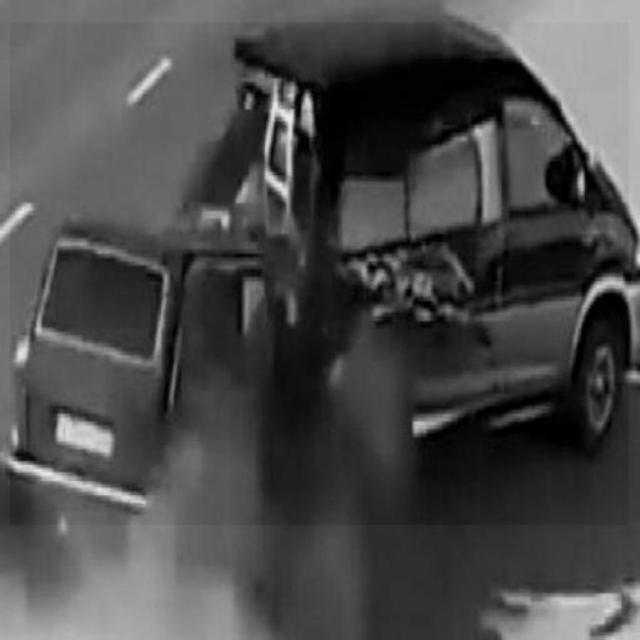accident: (10, 22, 628, 526)
